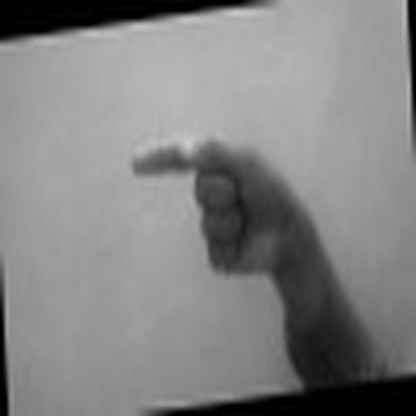g: (121, 110, 306, 285)
